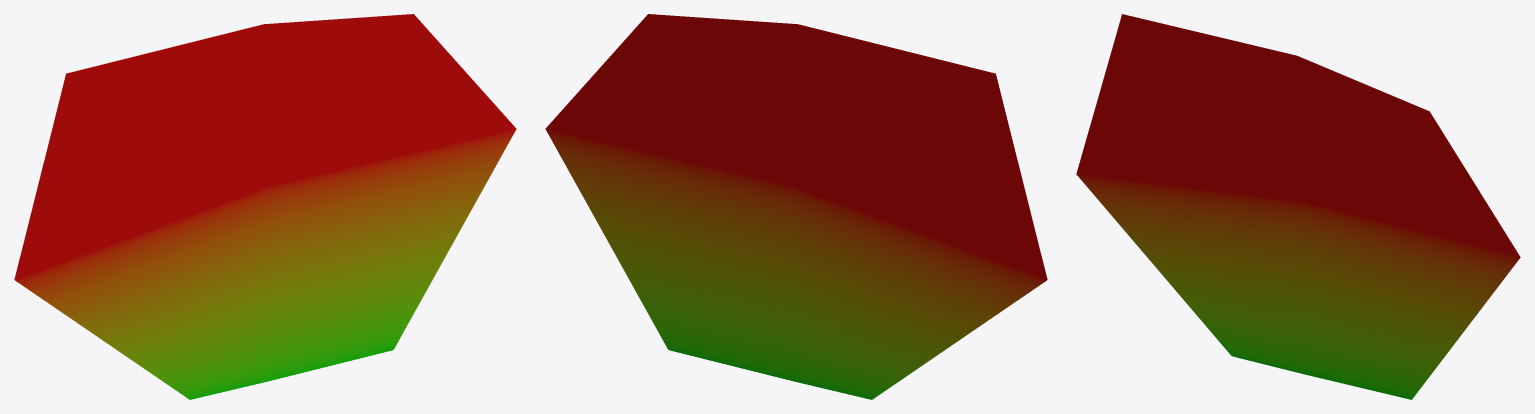
Rendered from Rose Hip_LOD5_Var6.fbx.
3 views of the same model, side by side, from view 1: azimuth 30°, elevation 25°; view 2: azimuth 150°, elevation 25°; view 3: azimuth 330°, elevation 25° (orthographic). The views are drawn at different scales.
Parts seen in each view (by area): view 1: _lu8n_Var6_LOD5; view 2: _lu8n_Var6_LOD5; view 3: _lu8n_Var6_LOD5.
Boxes of the visible parts, box(x1,y1,x2,y2) form: _lu8n_Var6_LOD5: box(14, 14, 516, 399); _lu8n_Var6_LOD5: box(545, 14, 1047, 399); _lu8n_Var6_LOD5: box(1076, 14, 1520, 399).
Bounding box in the file's own units: 198 × 135 × 1.75e-10.
